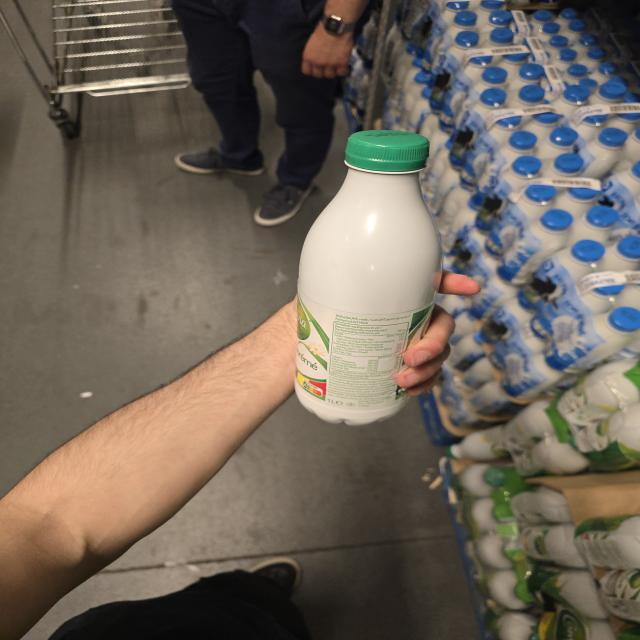Milk: (295, 130, 442, 425)
